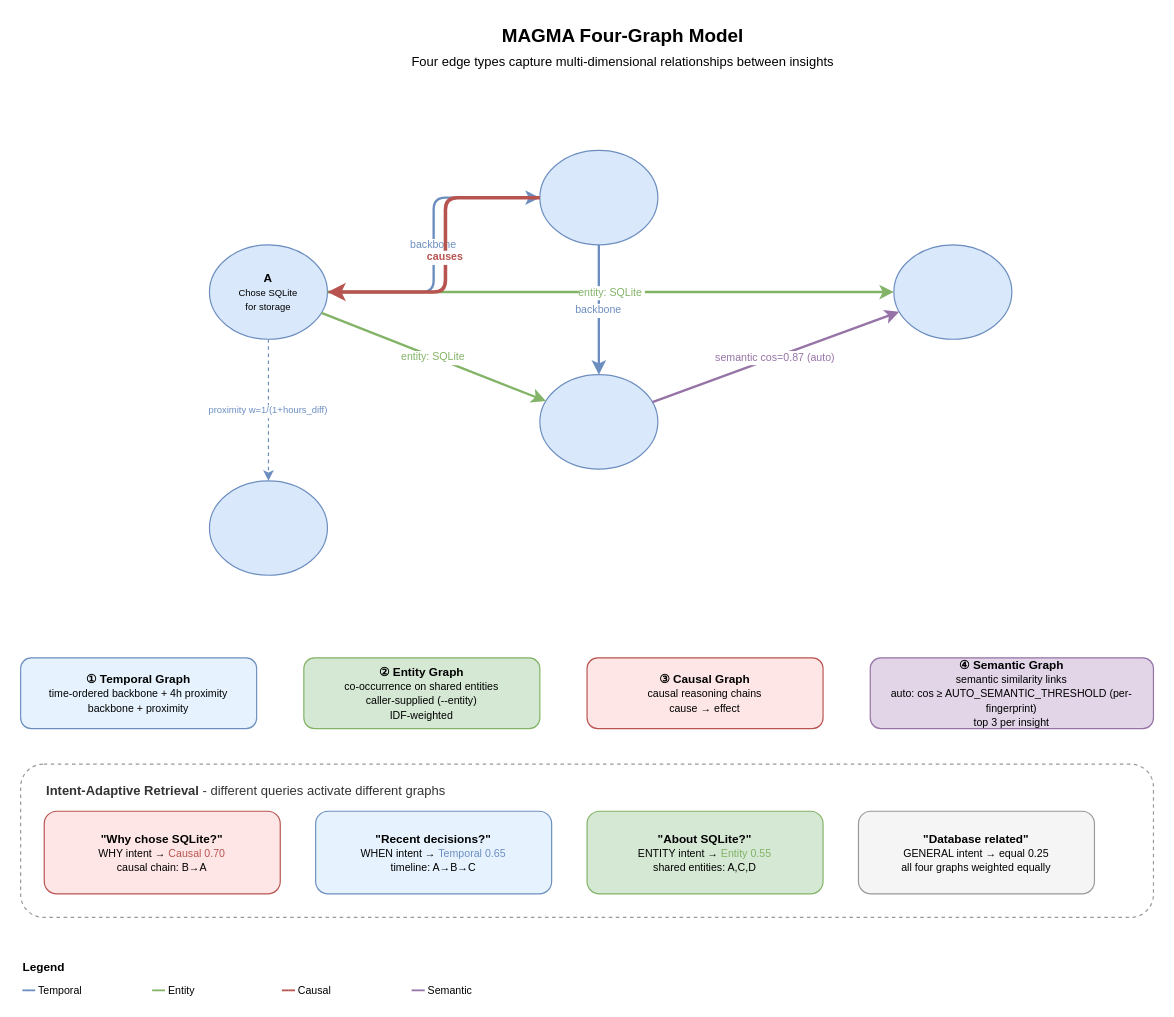
The diagram is 1174 pixels wide and 1017 high, and some of its shapes have lost their labels. Each missing label, with the centre of its shape:
"B Team lacks Redis experience" belongs at [598,197].
"C SQLite WAL concurrency test" belongs at [598,421].
"D DB selection comparison" belongs at [952,291].
"E Deployment confirmed" belongs at [267,527].
